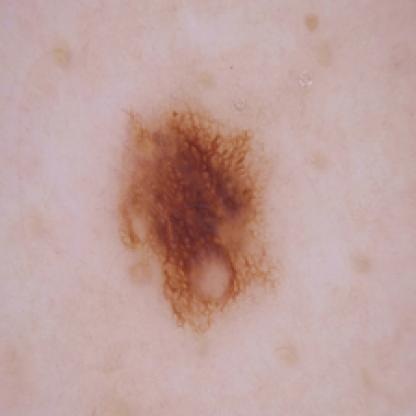Skin_Cancer-Malignant: (119, 106, 281, 340)
